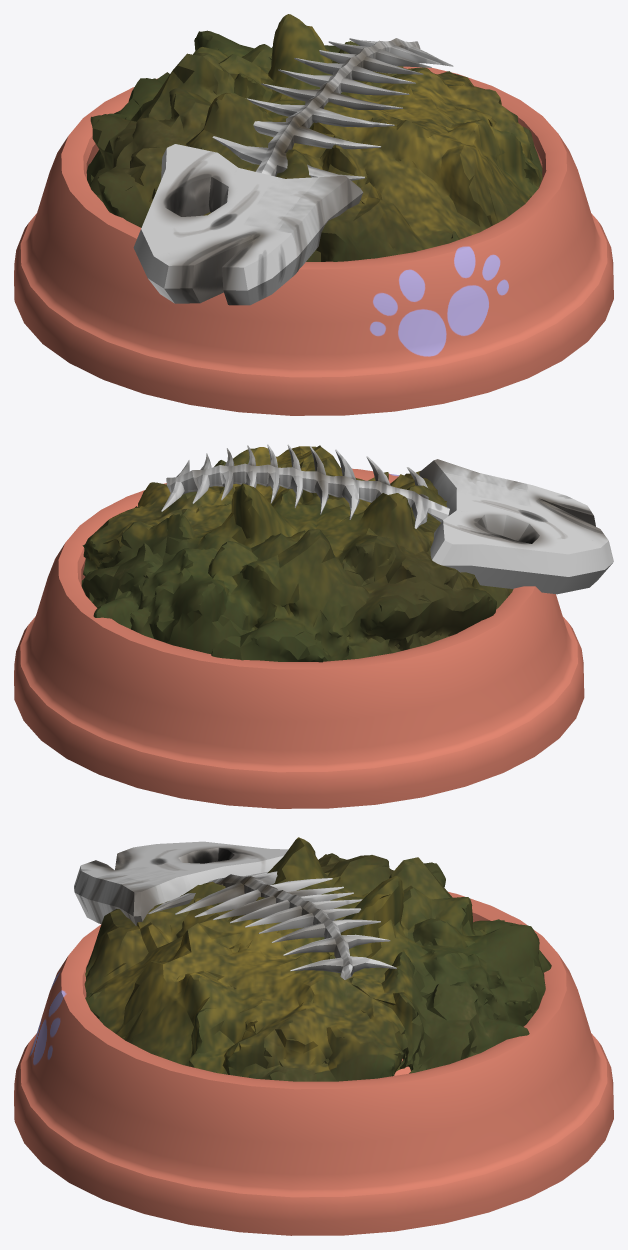
The model's file is Catfood bowl.fbx.
3 renders of one model, top to bottom at view 1: azimuth 30°, elevation 25°; view 2: azimuth 150°, elevation 25°; view 3: azimuth 270°, elevation 25°, orthographic. The views are drawn at different scales.
Visible parts, largest first — view 1: cat food; view 2: cat food; view 3: cat food.
Boxes of the visible parts, x1,y1,x2,y2 form: cat food: [14, 14, 613, 415]; cat food: [14, 444, 613, 808]; cat food: [14, 837, 613, 1235].
Size of the model in its own units: 23.39 by 10.67 by 23.39.
Materials: 1 (1 with a texture image).
